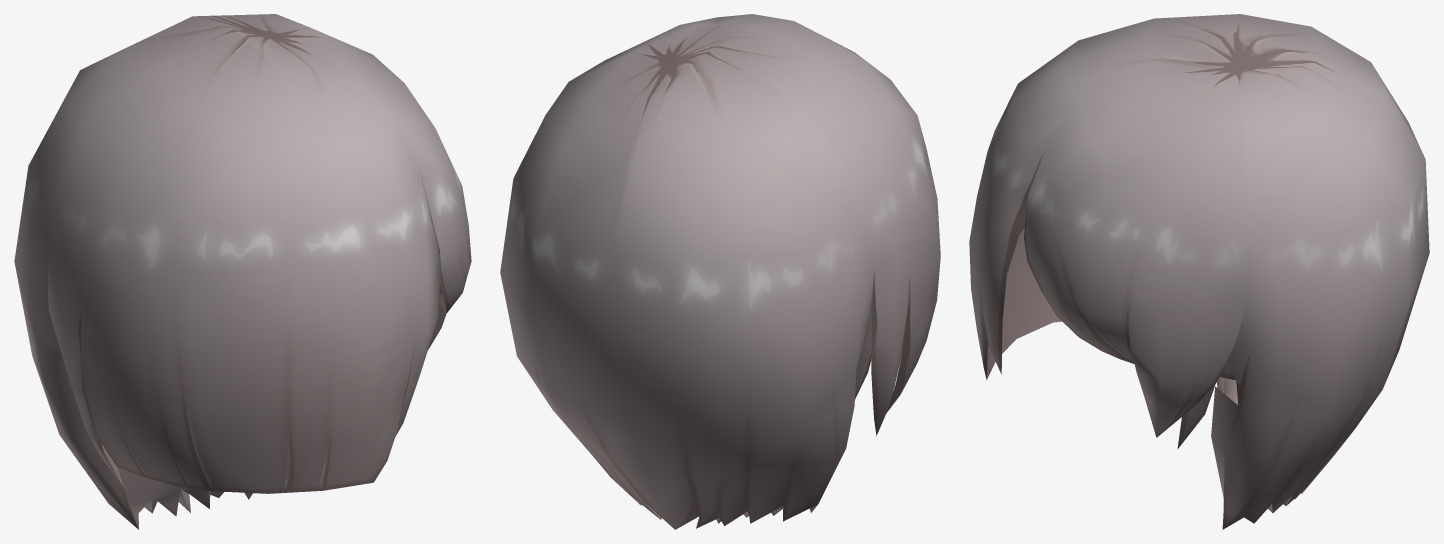
File: hair_f_short_2.fbx
3 renders of one model, left to right at view 1: azimuth 30°, elevation 25°; view 2: azimuth 150°, elevation 25°; view 3: azimuth 270°, elevation 25°, orthographic. The views are drawn at different scales.
Visible parts, largest first — view 1: hair_f_short_2; view 2: hair_f_short_2; view 3: hair_f_short_2.
Boxes of the visible parts, bbox=[...] form: hair_f_short_2: bbox=[14, 14, 471, 529]; hair_f_short_2: bbox=[500, 14, 940, 529]; hair_f_short_2: bbox=[969, 14, 1429, 529].
Bounding box in the file's own units: 23.5 × 29.44 × 26.66.
